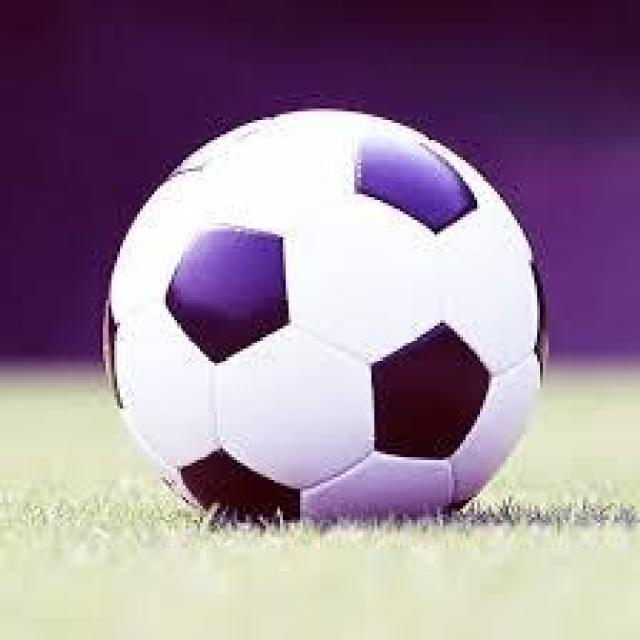ball: (103, 110, 548, 520)
